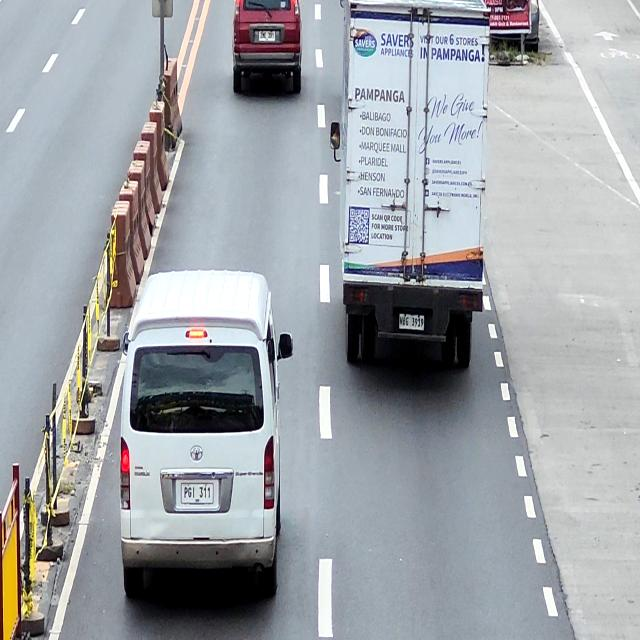Car: (118, 268, 293, 600), (231, 0, 303, 94)
License-Plate: (181, 483, 213, 505), (398, 314, 425, 330), (258, 31, 276, 41)
Truck: (330, 0, 490, 372)
